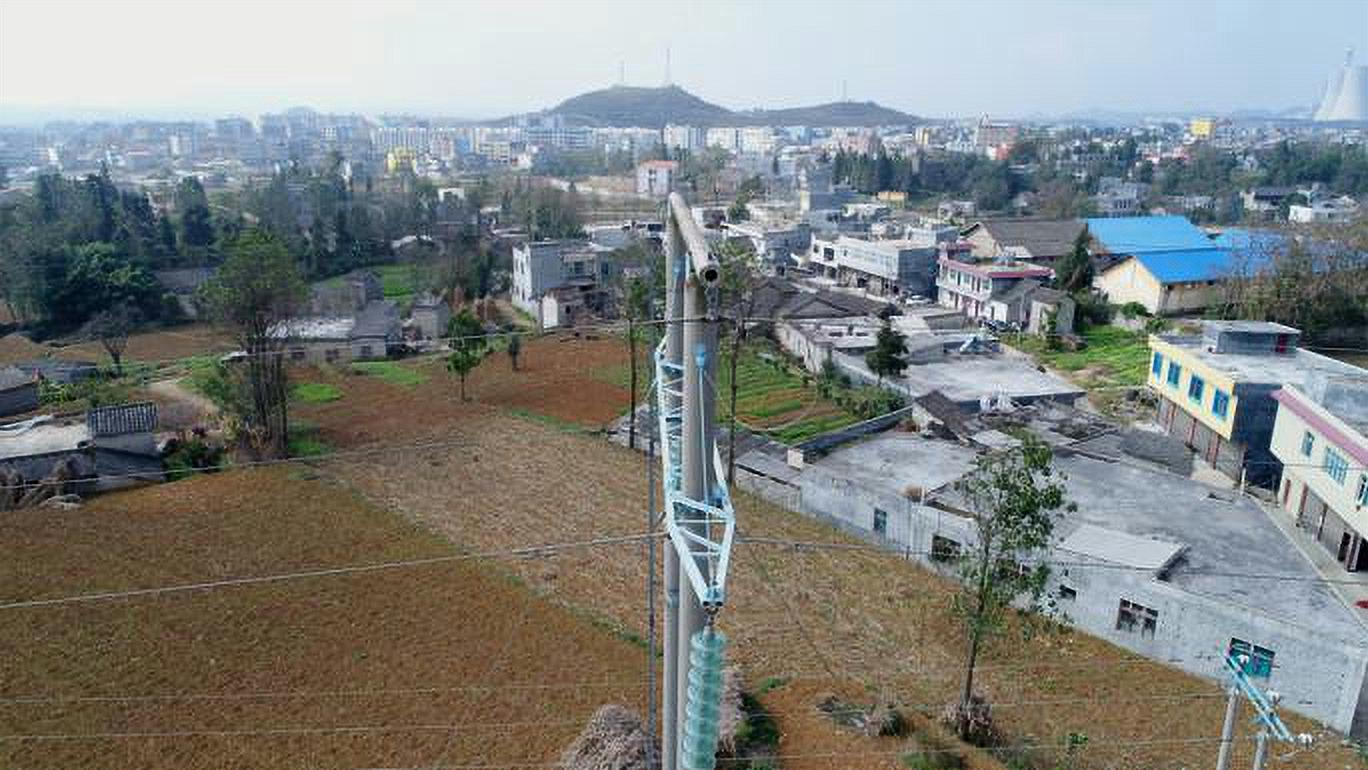insulator: (676, 625, 731, 770)
